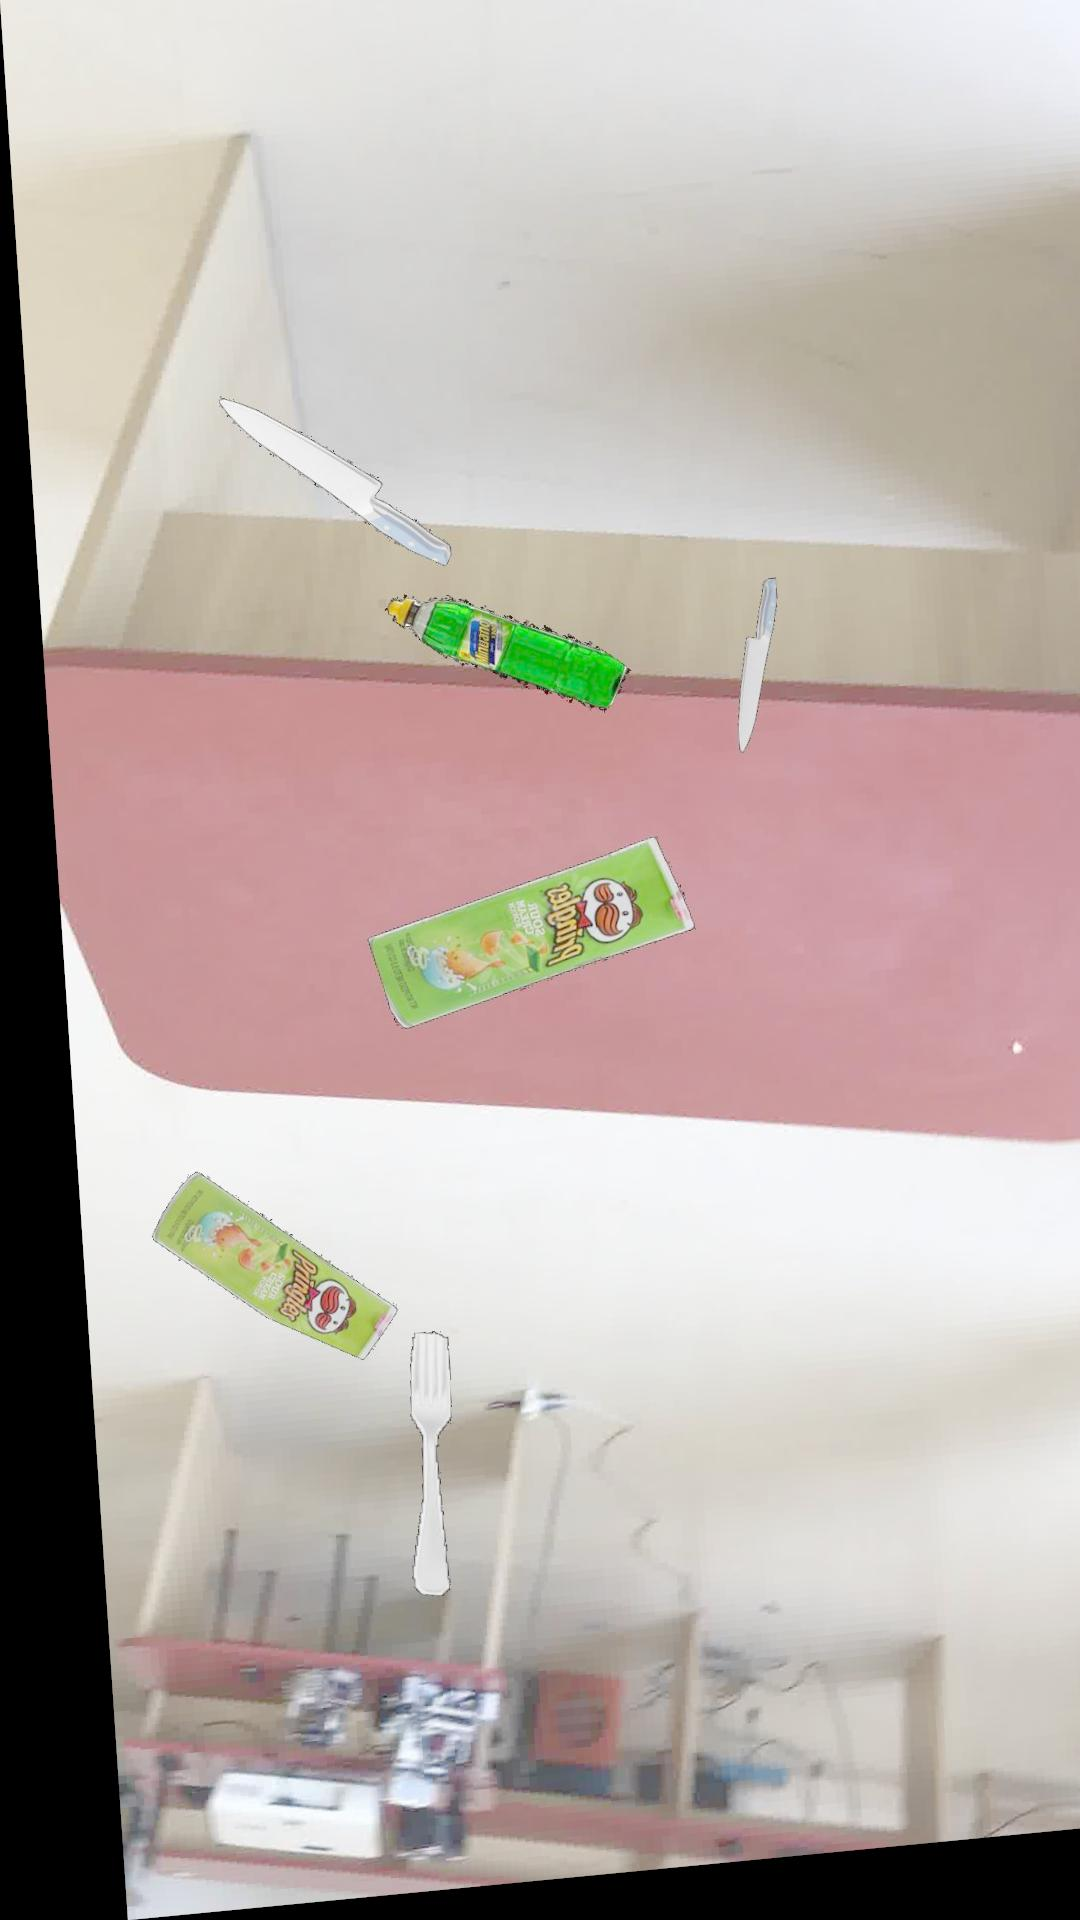cleaner: (377, 603, 622, 725)
fork: (390, 1340, 433, 1604)
knife: (215, 404, 444, 576), (728, 595, 770, 769)
pringles: (356, 851, 682, 1036), (136, 1175, 381, 1367)
